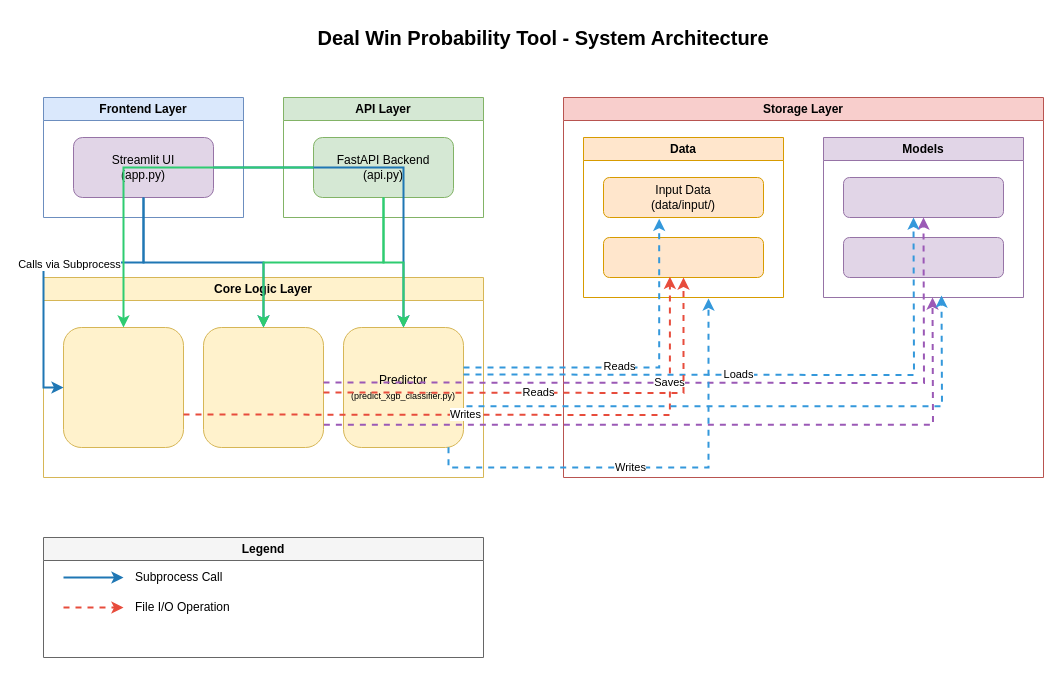
Image size: 1061x675. Some labels were removed from this diagram. The shapes that lost their labels are listed below. From the top down, each one's centre as x and y in pixels, then its label:
At point (923, 197): "XGBoost Model (xgb_classifier.pkl)".
At point (683, 257): "Output Data (data/output/)".
At point (923, 257): "Label Encoder (label_encoder.pkl)".
At point (123, 387): "Data Generator (generate_synthetic_data.py)".
At point (263, 387): "Model Trainer (train_xgb_classifier.py)".
